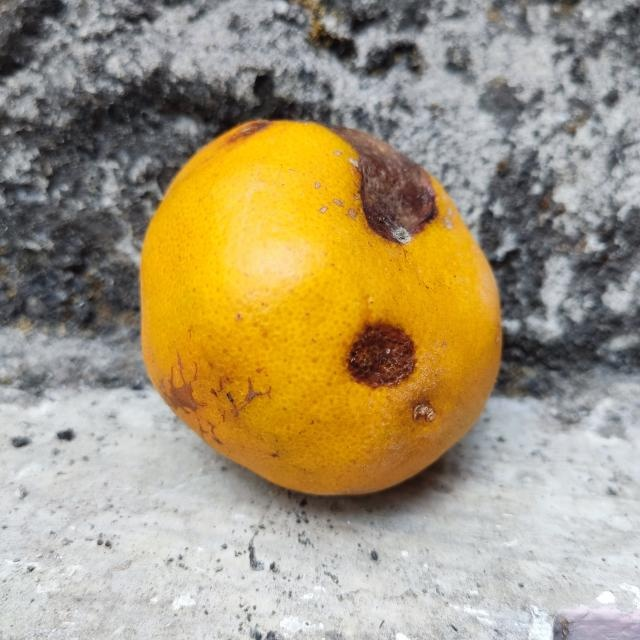agrume: (136, 119, 501, 494)
